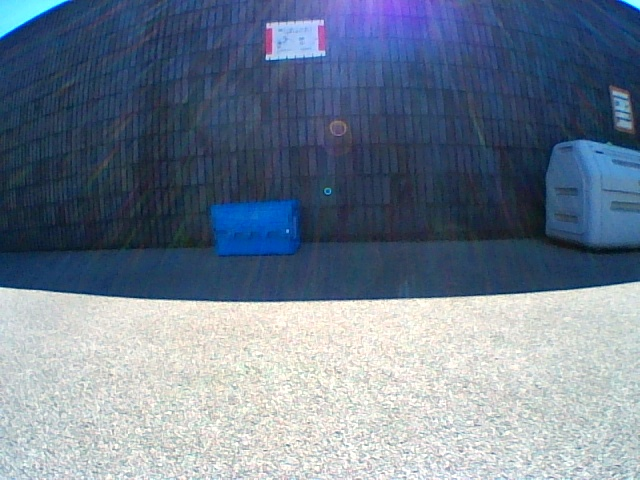blue_box: (212, 200, 299, 254)
tag: (294, 220, 295, 238)
